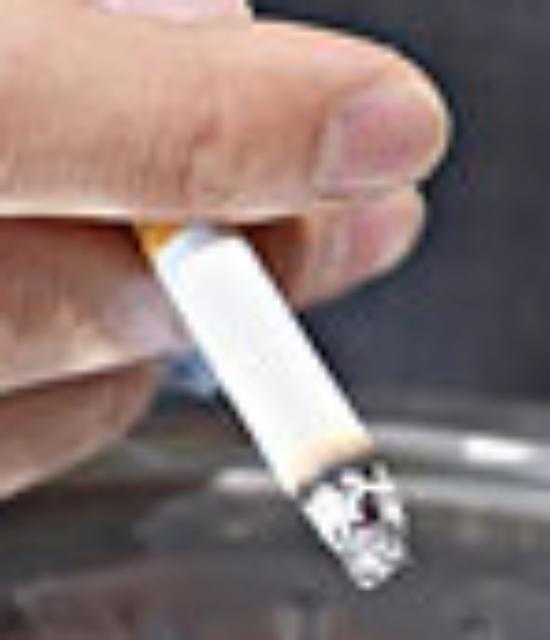Cigarette: (111, 157, 417, 593)
